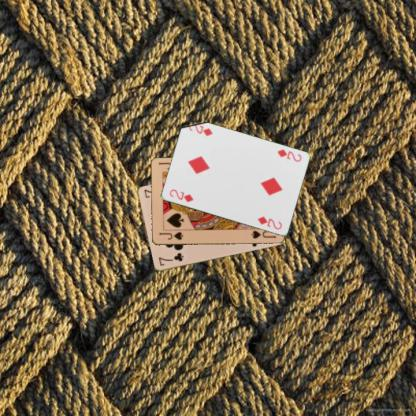2d: (166, 186, 195, 204), (274, 147, 303, 163)
7c: (156, 250, 184, 267)
Js: (157, 230, 184, 242)
